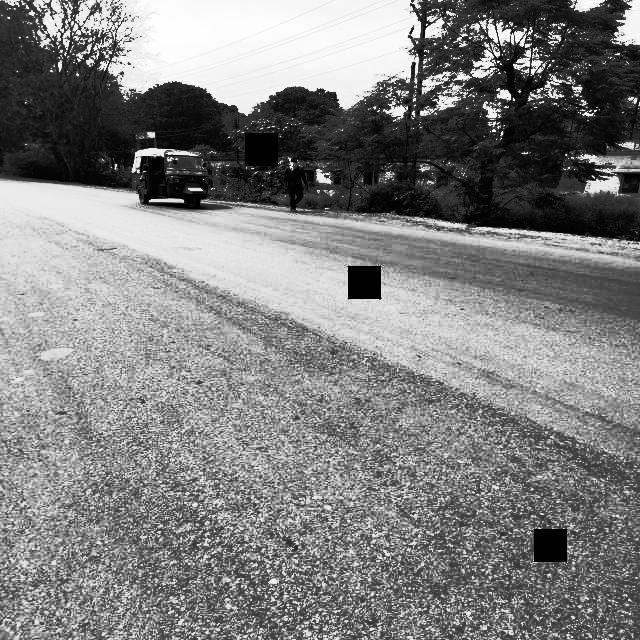Auto-Rickshaw: (130, 136, 220, 212)
